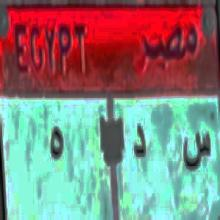5: (42, 122, 69, 173)
daal: (129, 114, 149, 171)
seen: (178, 123, 213, 178)
